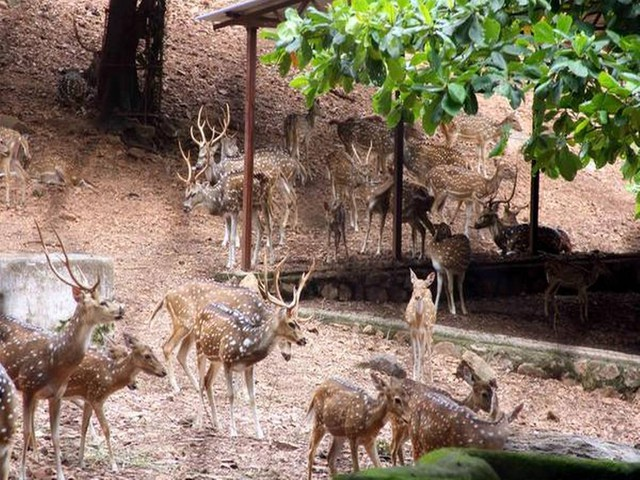deer: (4, 217, 125, 472), (189, 298, 308, 436), (172, 144, 273, 266), (85, 332, 173, 465), (292, 372, 412, 458), (414, 390, 527, 453), (188, 113, 281, 171), (419, 228, 477, 318), (472, 204, 577, 251), (537, 255, 610, 321), (397, 265, 442, 371), (428, 155, 530, 199), (438, 106, 530, 150), (277, 97, 326, 168), (364, 184, 442, 228), (1, 115, 36, 211), (330, 110, 431, 142), (320, 198, 357, 258), (448, 358, 510, 392), (322, 142, 380, 176)
